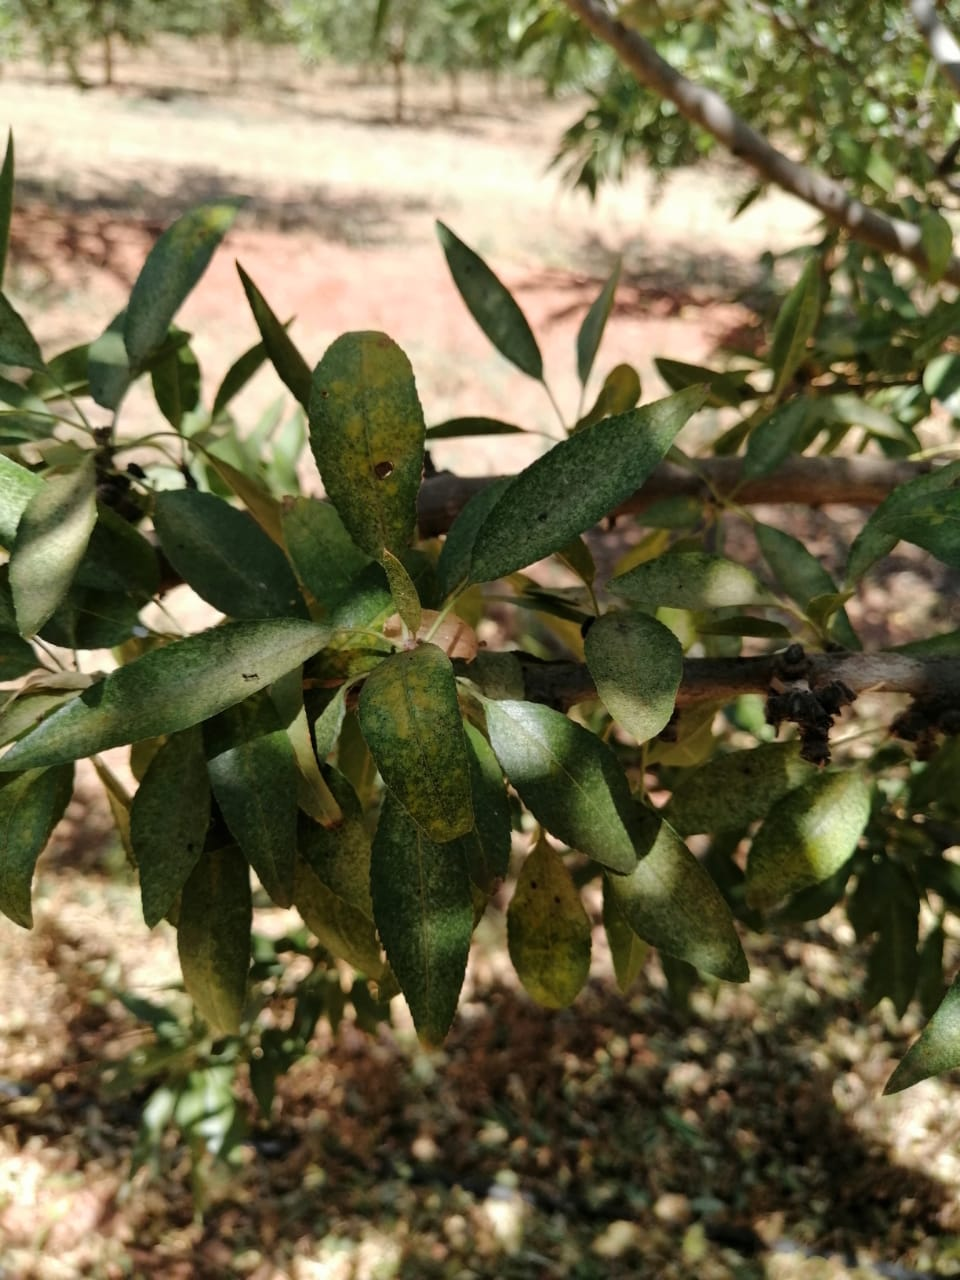acariens: (1, 614, 337, 776), (468, 380, 715, 585), (306, 331, 428, 561), (483, 698, 637, 875), (357, 645, 478, 844), (584, 608, 687, 745)
